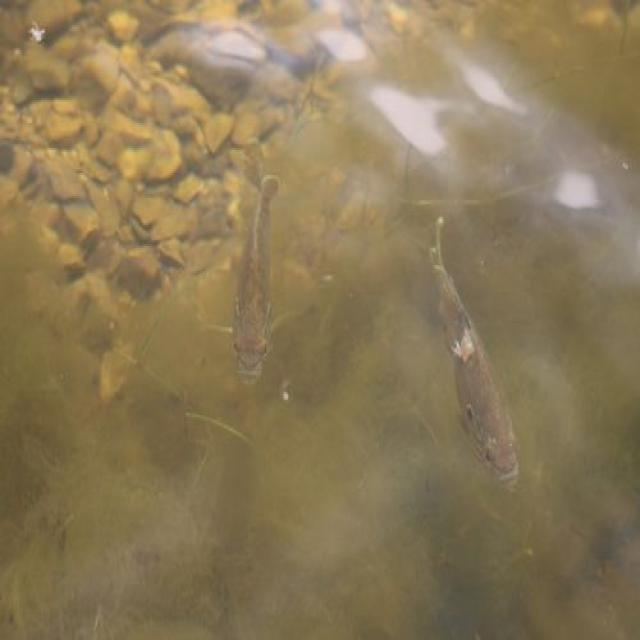Gunes Levregi: (425, 229, 526, 501)
